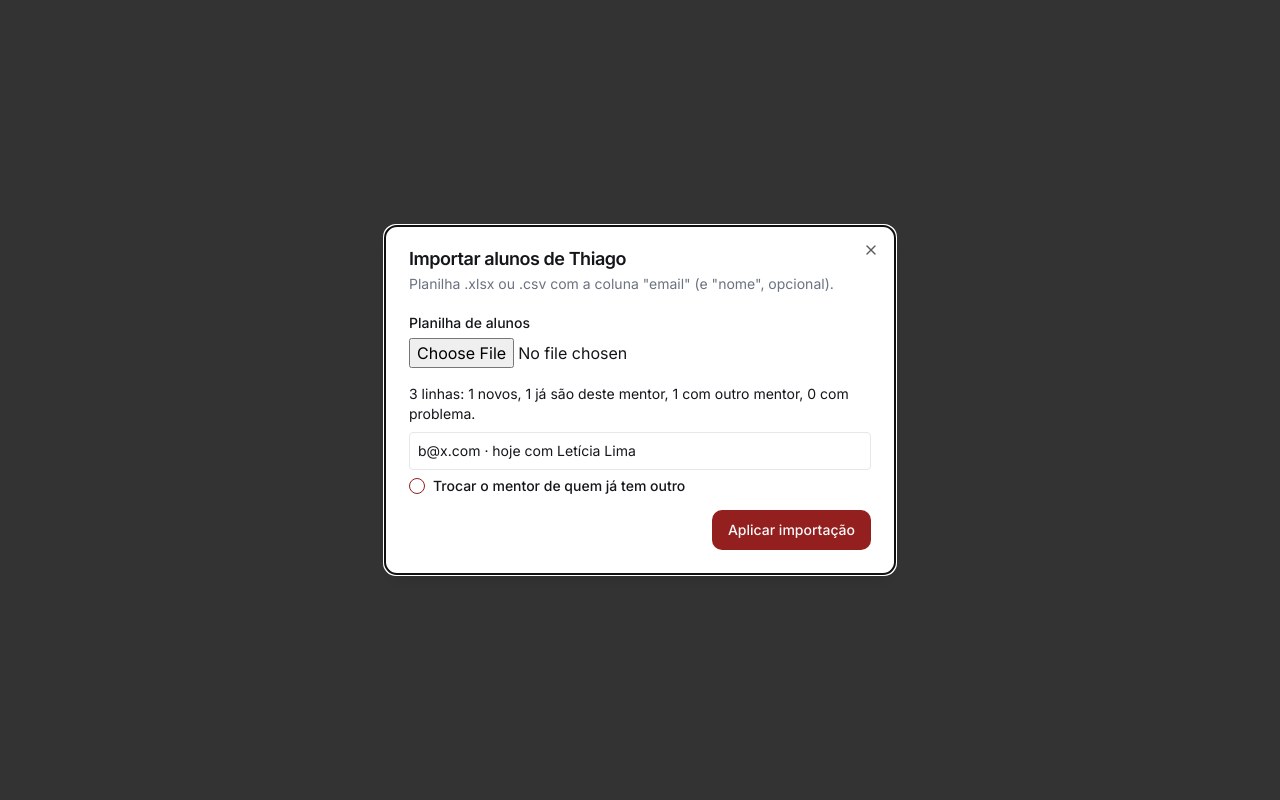
Test: ImportVinculosDialog › aplicar chama a RPC sem dry run, respeitando "trocar"
Earlier steps of the test are not shown.
Expected: the list item "b@x.com · hoje com Letícia Lima" is shown, [418,442,636,459]
Step 1. Click the checkbox named "Trocar o mentor de quem já tem outro" → (417, 486), box [409,478,425,494]
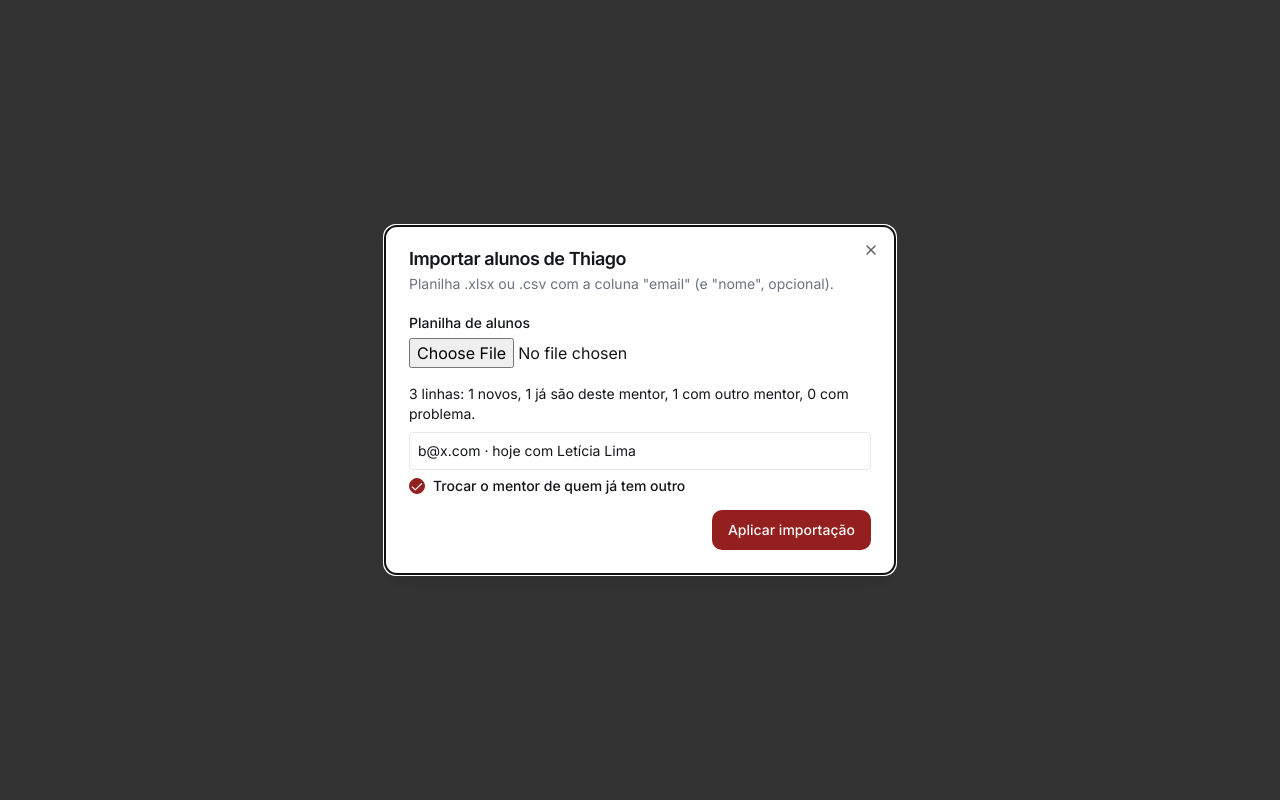
Step 2. Click the button "Aplicar importação" → (791, 530), box [712,510,871,550]
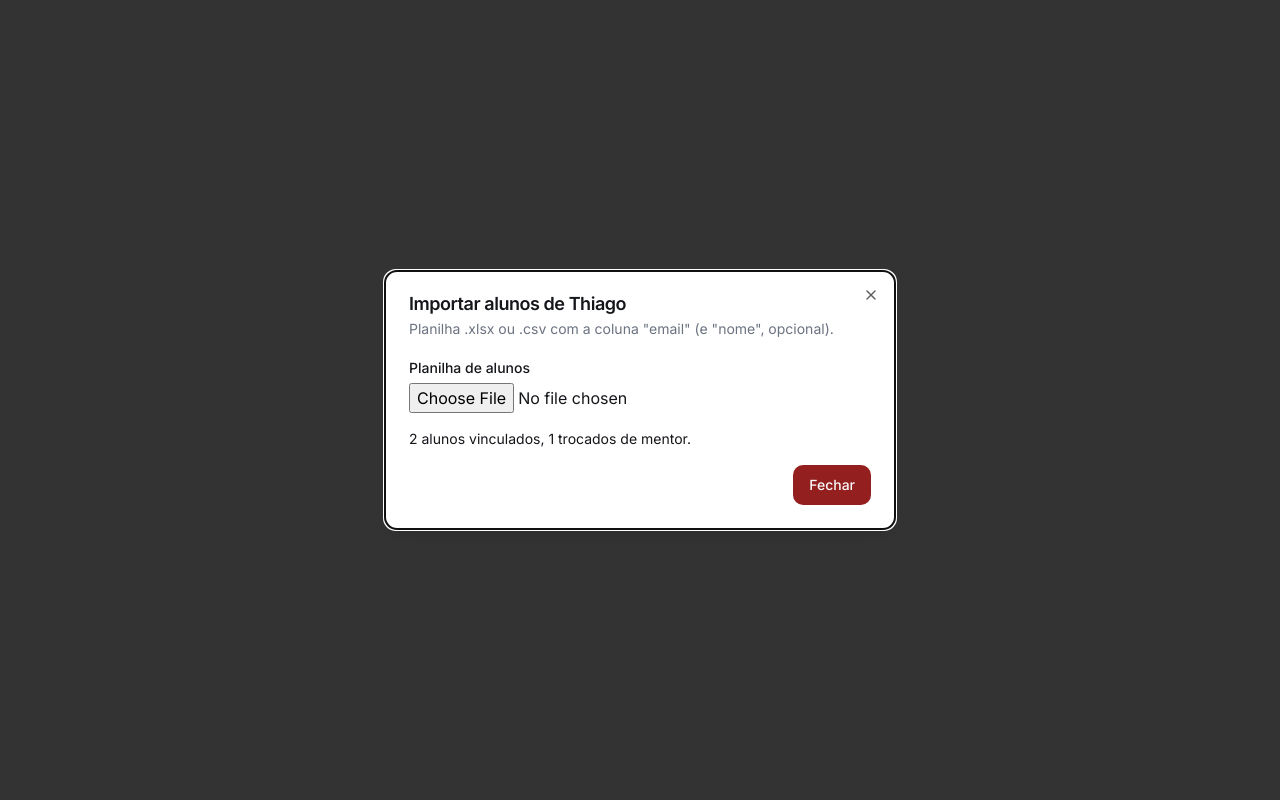
Now the text "2 alunos vinculados, 1 trocados de mentor." is shown, box [409,430,691,447]
